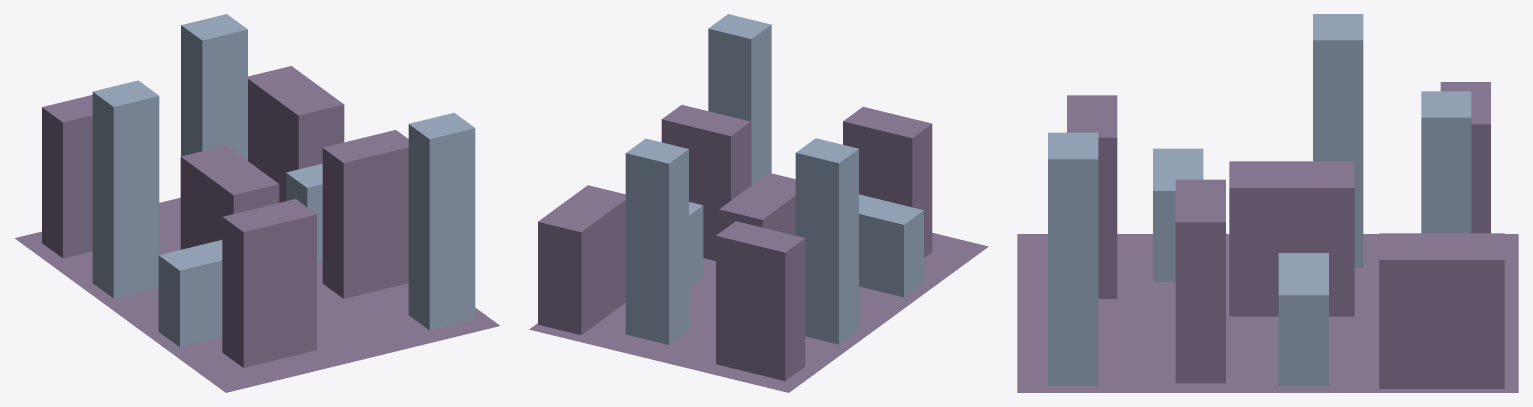
The model's file is city_slums_transition_mod.fbx.
3 renders of one model, left to right at view 1: azimuth 30°, elevation 25°; view 2: azimuth 150°, elevation 25°; view 3: azimuth 270°, elevation 25°, orthographic. The views are drawn at different scales.
Parts seen in each view (by area): view 1: transition1_small_building13; view 2: transition1_small_building13; view 3: transition1_small_building13.
Part boxes in pixels (x1,y1,x2,y2): transition1_small_building13: (14, 14, 499, 392); transition1_small_building13: (529, 14, 988, 392); transition1_small_building13: (1017, 14, 1518, 392).
Size of the model in its own units: 30 by 20.07 by 40.
